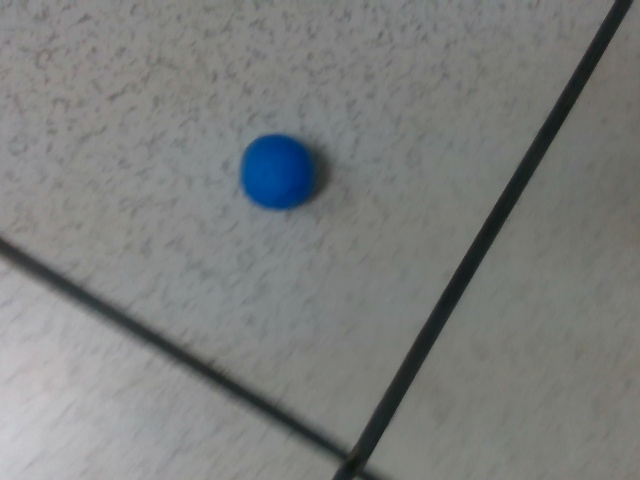blueball: (240, 131, 316, 211)
